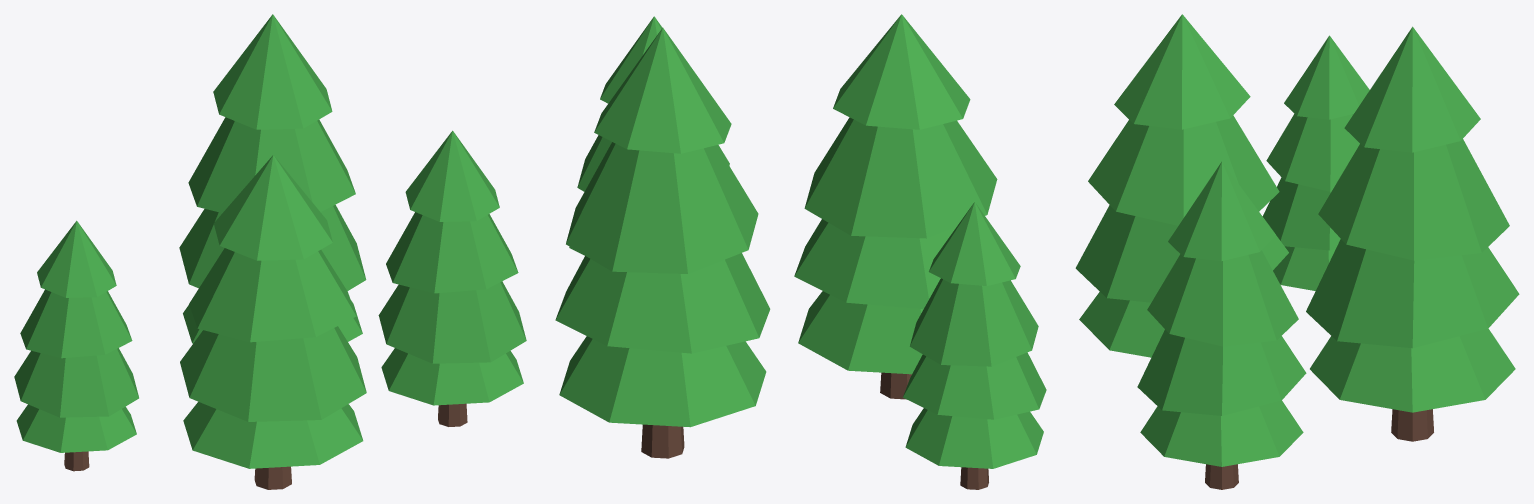
File: 447e5dc5-08e6-428c-8d19-1e049f73dffd.glb
3 views of the same model, side by side, from view 1: azimuth 30°, elevation 25°; view 2: azimuth 150°, elevation 25°; view 3: azimuth 270°, elevation 25° (orthographic). The views are drawn at different scales.
Parts seen in each view (by area): view 1: Circle_Circle.002; view 2: Circle_Circle.002; view 3: Circle_Circle.002.
Boxes of the visible parts, x1,y1,x2,y2 form: Circle_Circle.002: (14,14,526,489); Circle_Circle.002: (555,14,1046,489); Circle_Circle.002: (1075,14,1519,489).
Bounding box in the file's own units: 13.9 × 10.85 × 10.74.
